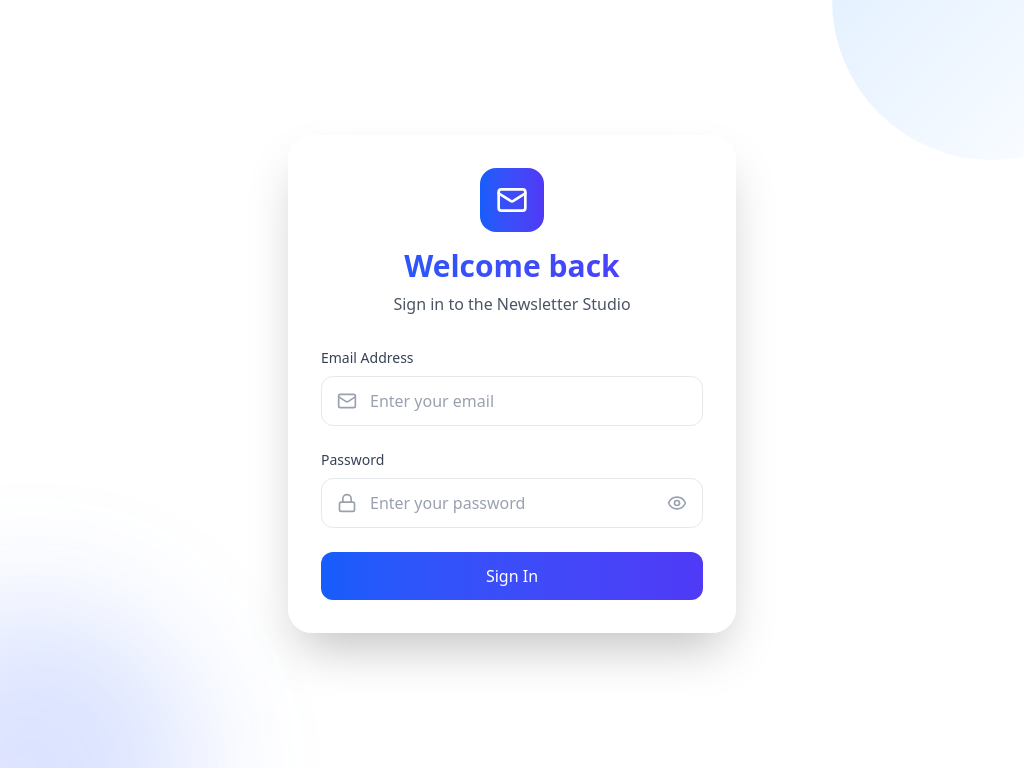
shows error message on failed login
In the field labelled "Email Address": point(512, 401) [321,376,703,426], type "test@example.com"
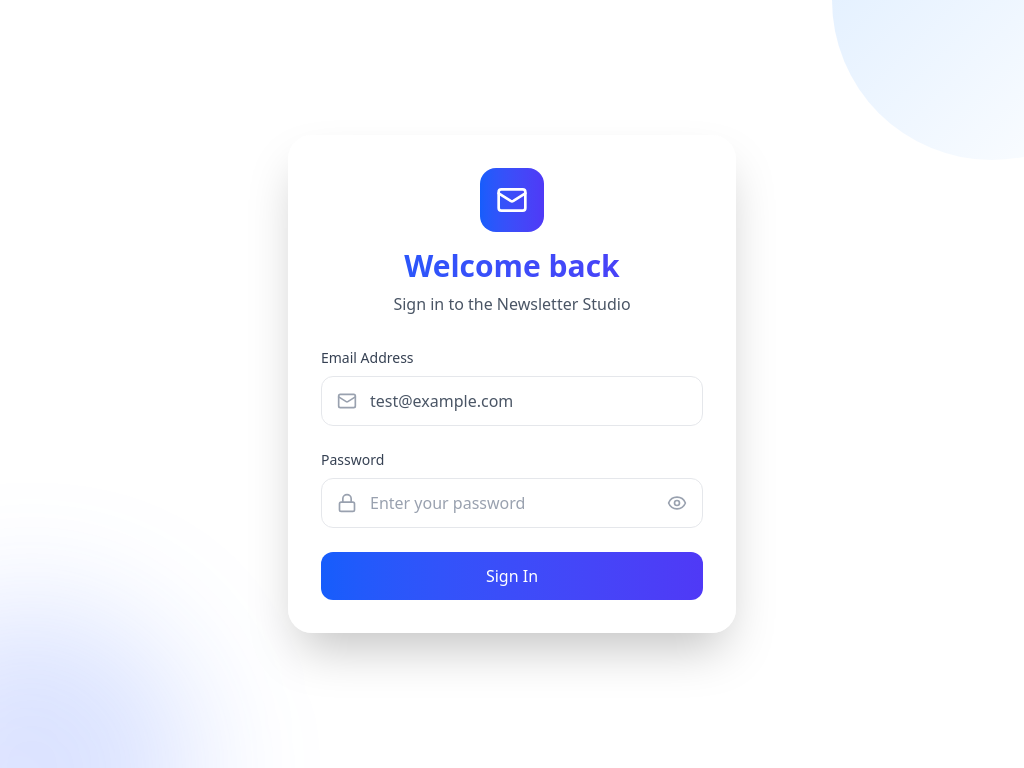
In the password field labelled "Password": point(512, 503) [321,478,703,528], type "secret"
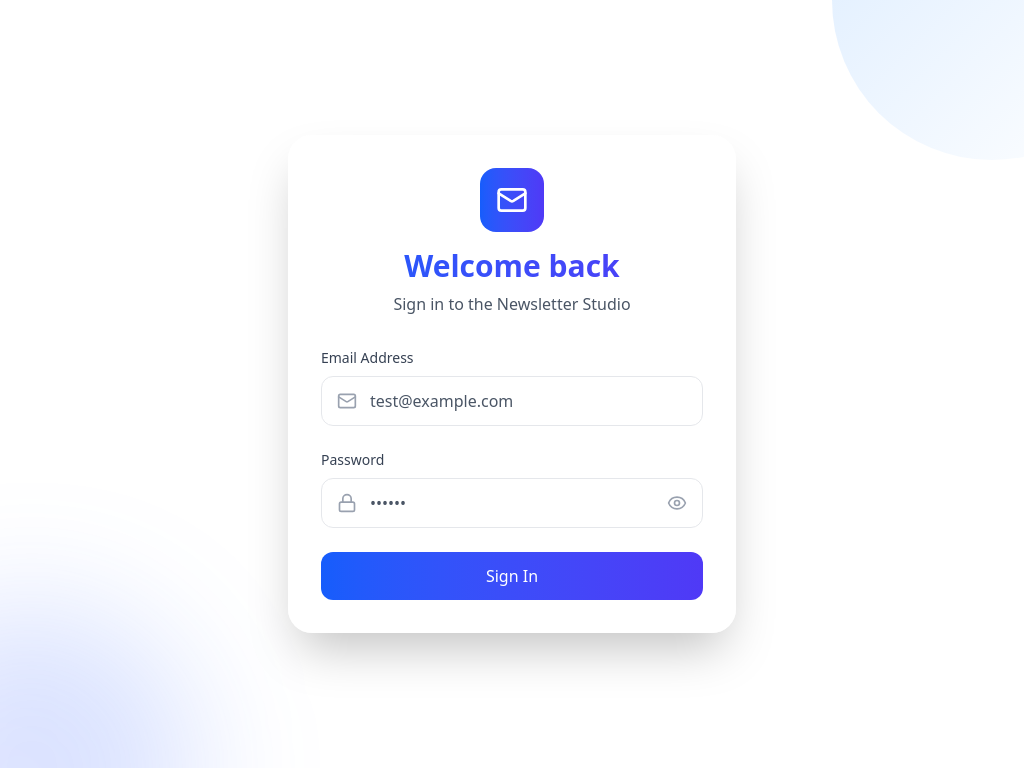
Click the button "Sign In": point(512, 576) [321,552,703,600]
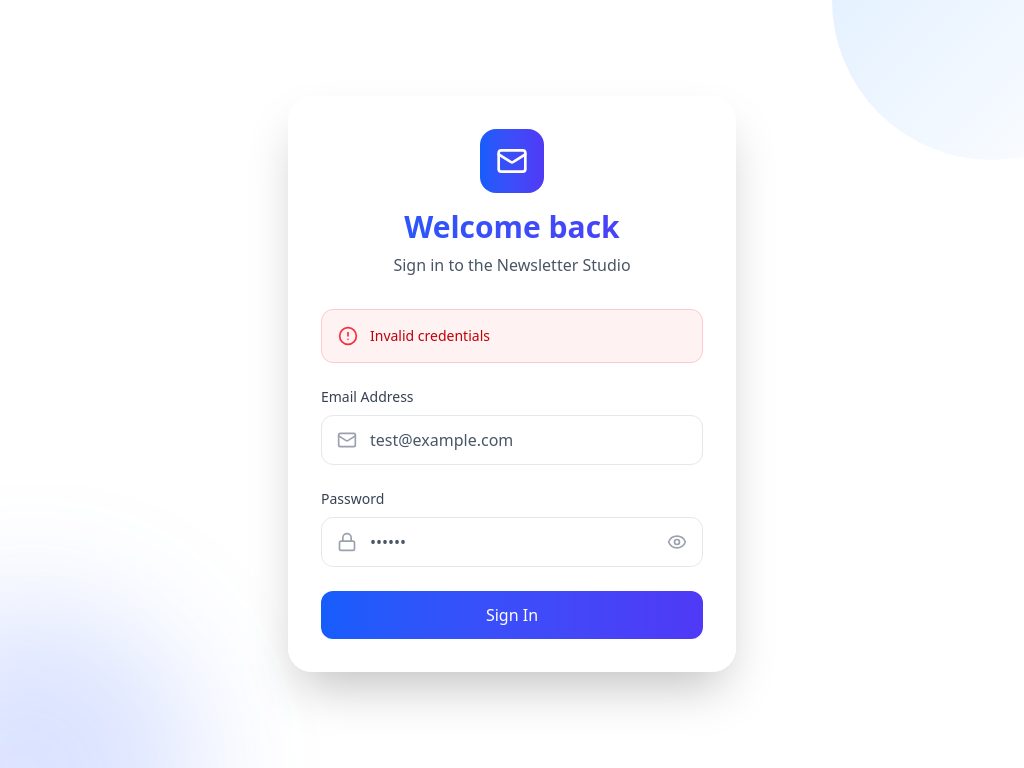
Now the text "Invalid credentials" is shown, box [370,326,490,346]
